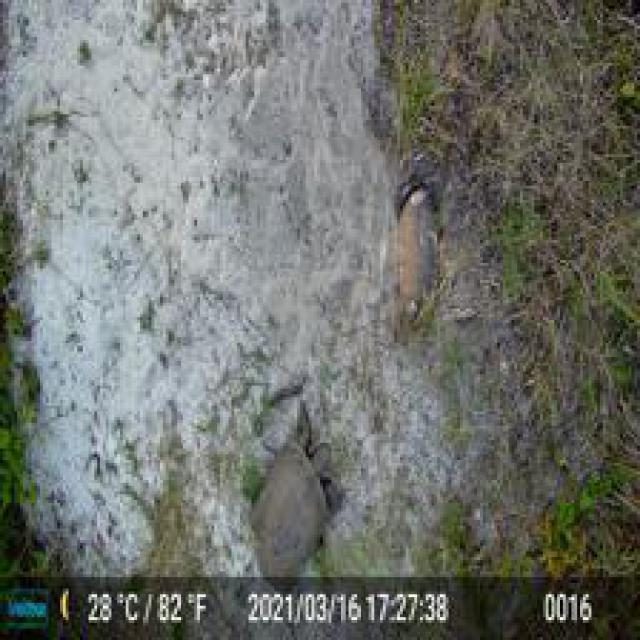tortoise: (246, 434, 343, 580), (391, 174, 443, 306)
